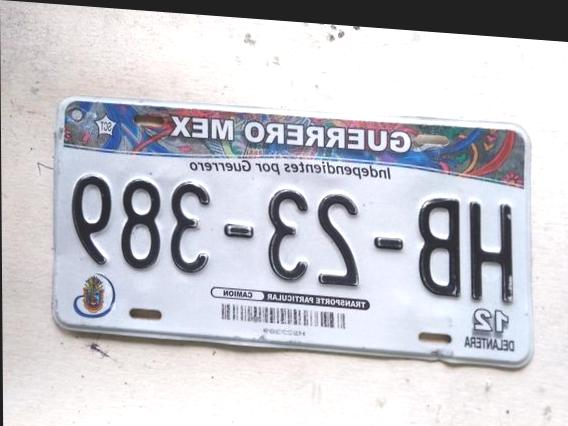License_Plate: (35, 71, 538, 379)
